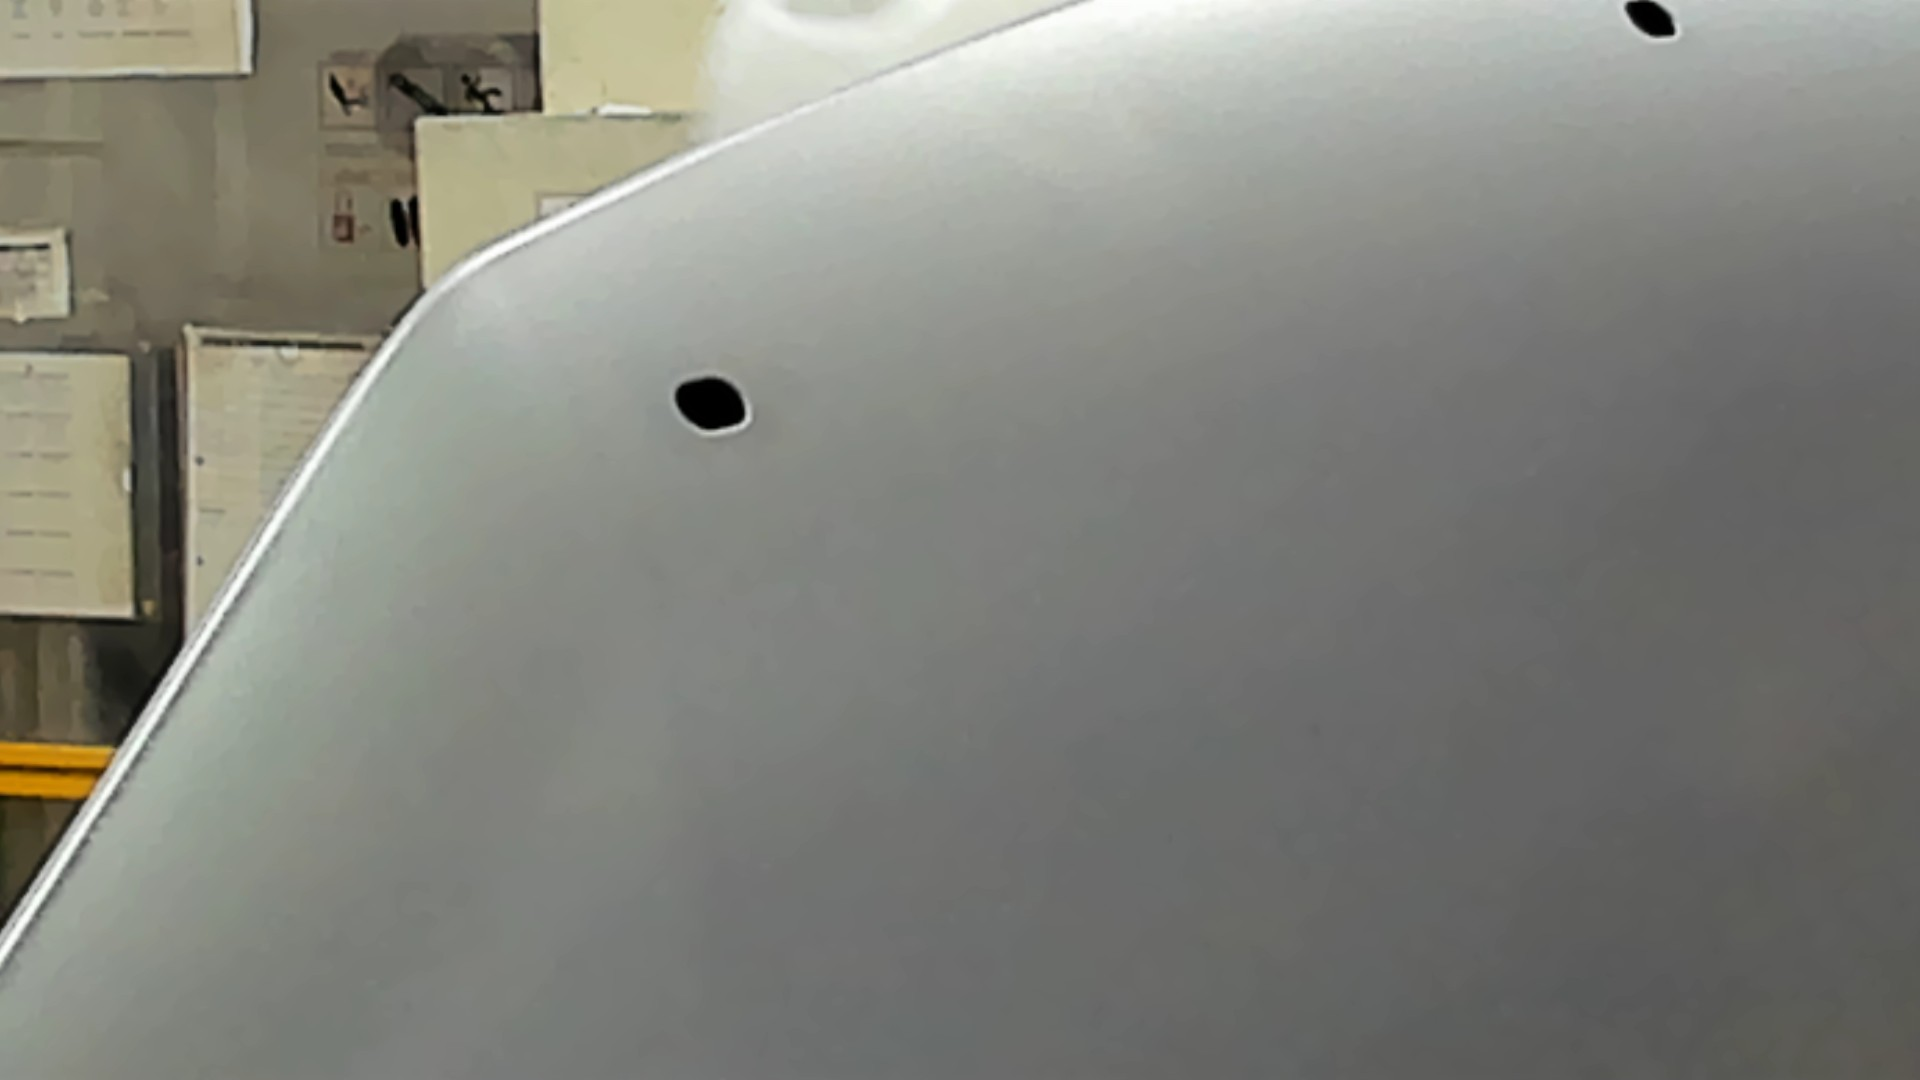amorfo: (670, 368, 752, 440), (1619, 1, 1680, 45)
